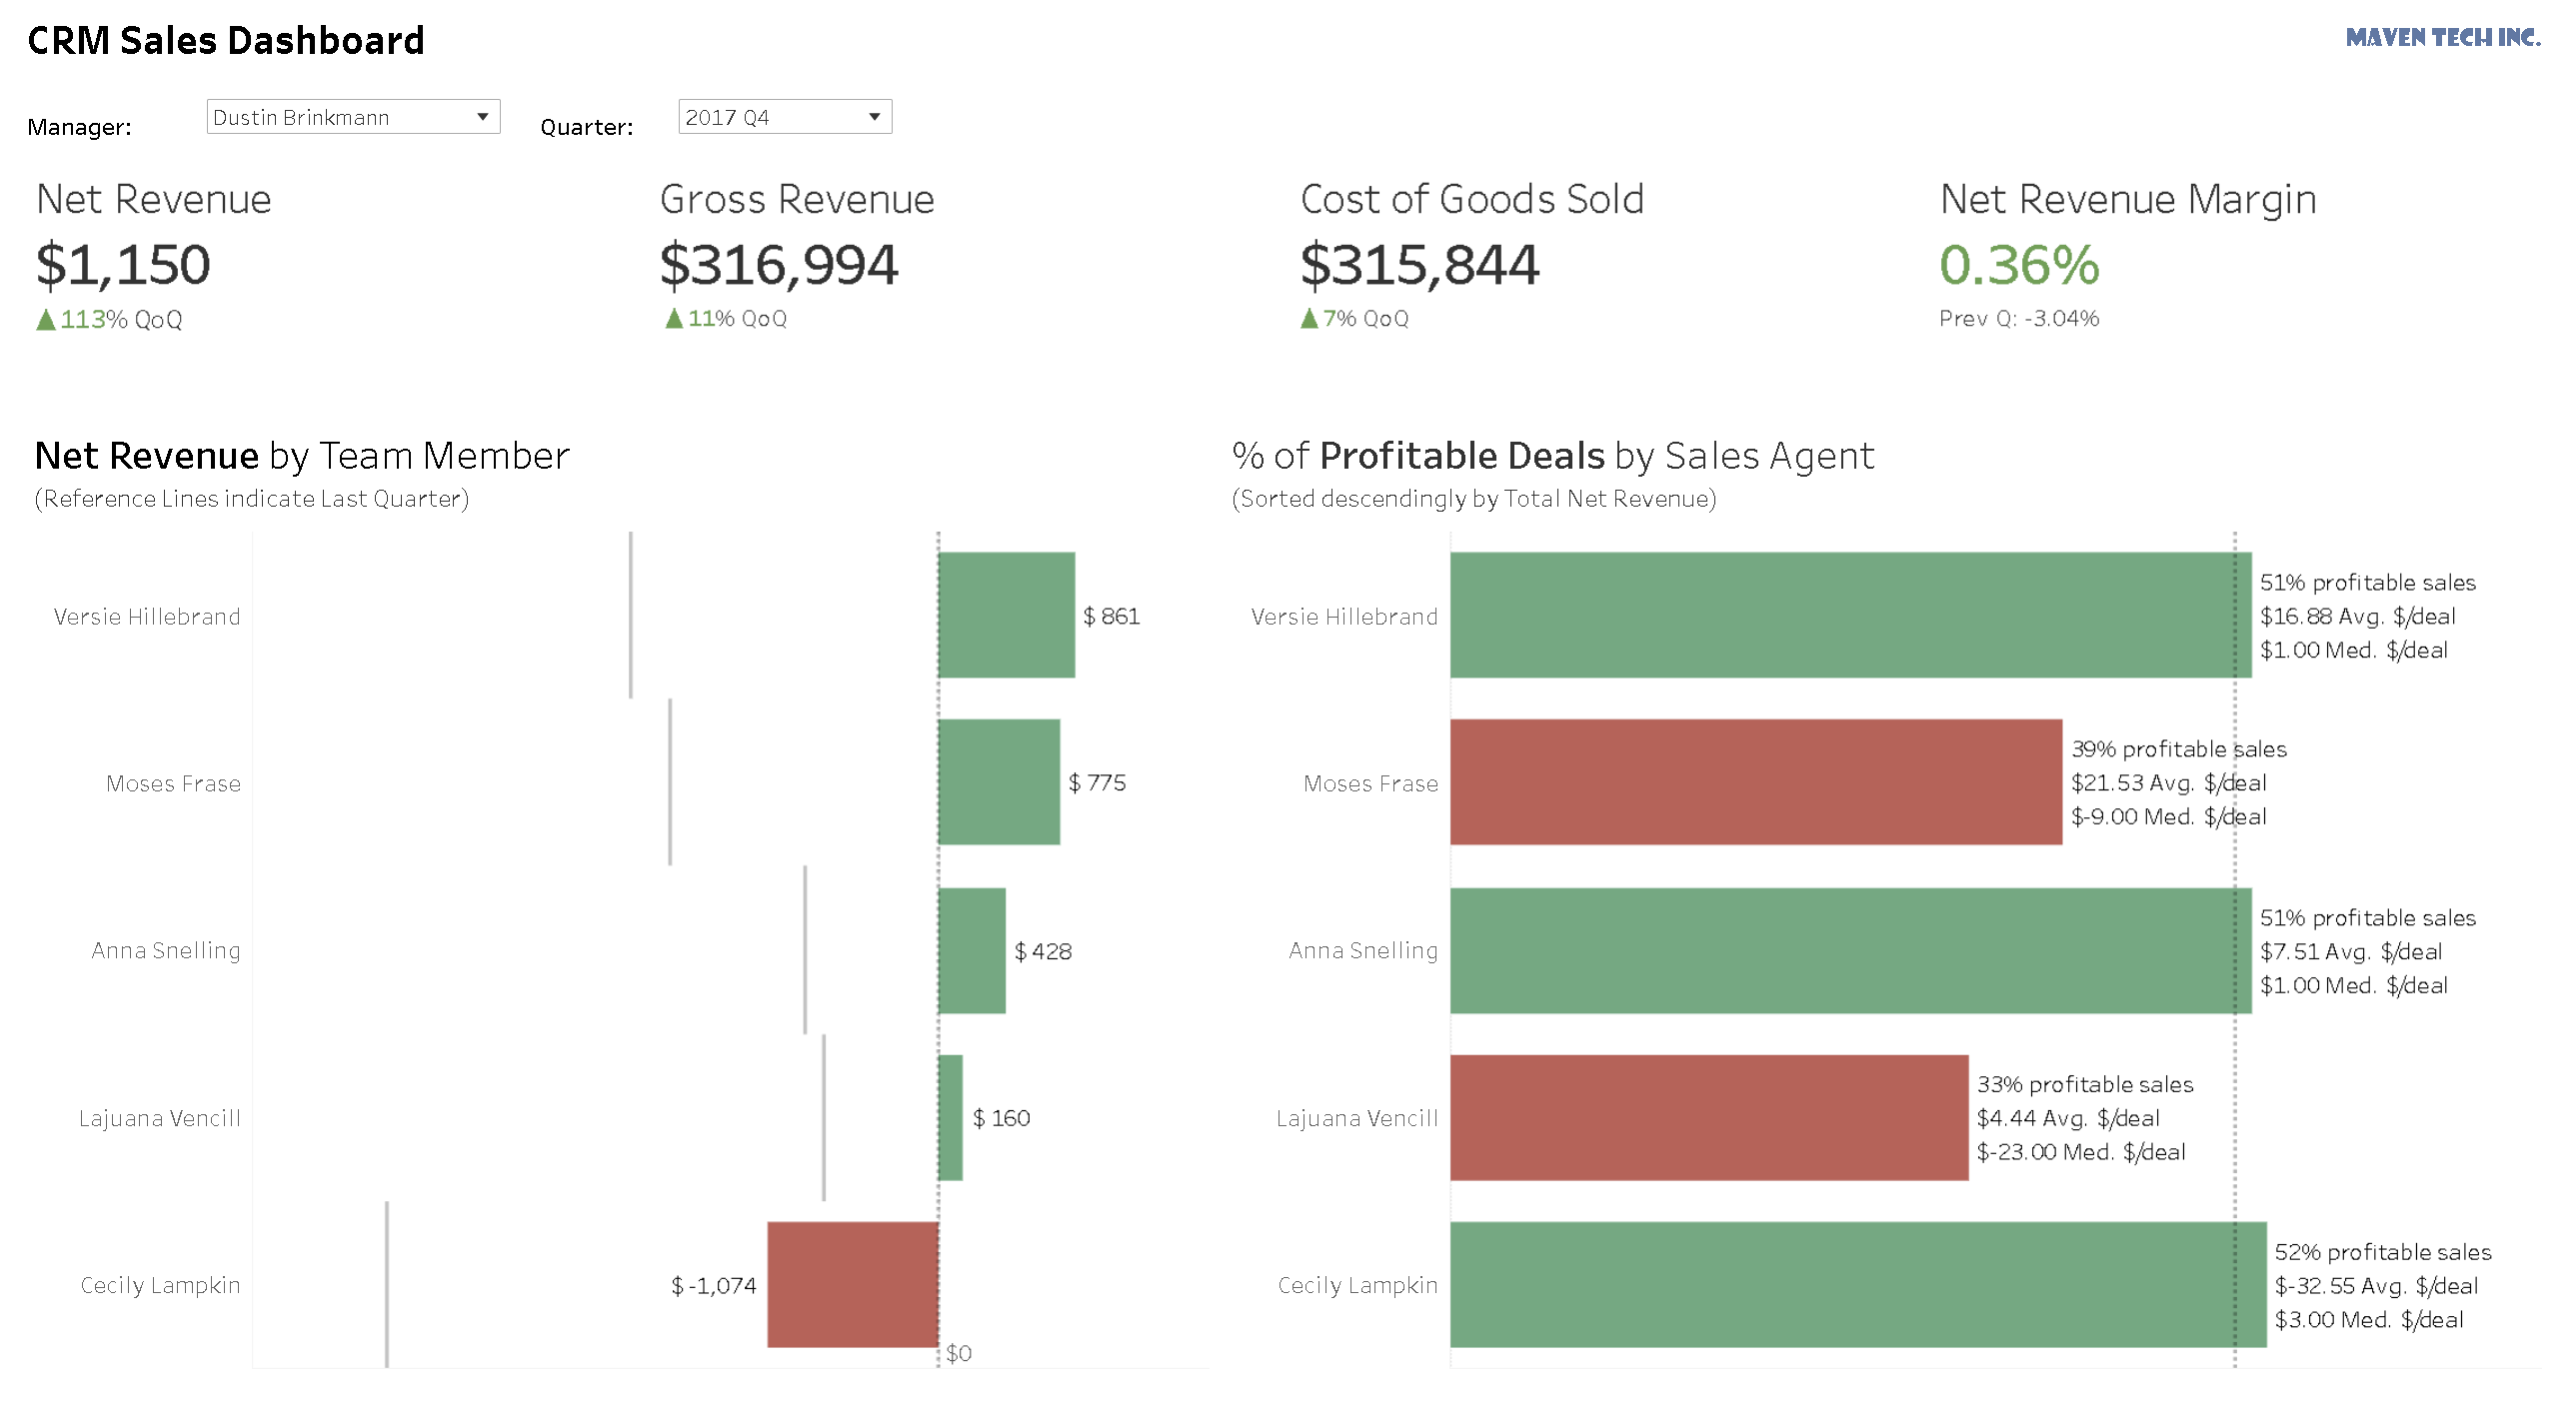

The page's visual inventory and layout, read from the dashboard file:
{"tool":"tableau","page":{"name":"Revenue Dashboard","canvas":[1366,768],"ordinal":1},"visuals":[{"type":"text","box":[8,8,1051,57]},{"type":"text","box":[1059,8,299,57]},{"type":"text","box":[8,65,95,37]},{"type":"filter","title":"KPI Net Revenue","param":"[federated.1rdbeku1b0a2o613jef0j0olita1].[none:manager:nk]","box":[103,65,167,37]},{"type":"text","box":[270,65,85,37]},{"type":"parameter","param":"[Parameters].[Parameter 2]","box":[355,65,124,37]},{"type":"blank","box":[479,65,879,37]},{"type":"worksheet","title":"KPI Net Revenue","mark":"Automatic","box":[8,102,333,132]},{"type":"worksheet","title":"KPI Gross Revenue","mark":"Automatic","box":[341,102,342,132]},{"type":"worksheet","title":"KPI Cost of Goods Sold","mark":"Automatic","box":[683,102,341,132]},{"type":"worksheet","title":"KPI Profit Margin","mark":"Automatic","box":[1024,102,334,132]},{"type":"worksheet","title":"Net Revenue by Sales Agent","mark":"Bar","rows":["sales_agent"],"cols":["Calculation_784470816501125144"],"box":[8,233.5,639,526.4]},{"type":"worksheet","title":"Reveue Stats per Deal by Sales Agent","mark":"Automatic","rows":["sales_agent"],"cols":["Calculation_2355664136857657361"],"box":[647,233.5,711,526.4]}]}

Visuals, with their boxes on the page's 1366x768 design canvas (x1, y1, x2, y2). These are canvas units, not pixel positions in the 2576x1401 screenshot, which may show the page scaled, cropped or inside an application window:
text: 8 8 1059 65
text: 1059 8 1358 65
text: 8 65 103 102
"KPI Net Revenue" filter: 103 65 270 102
text: 270 65 355 102
parameter: 355 65 479 102
blank: 479 65 1358 102
"KPI Net Revenue" worksheet: 8 102 341 234
"KPI Gross Revenue" worksheet: 341 102 683 234
"KPI Cost of Goods Sold" worksheet: 683 102 1024 234
"KPI Profit Margin" worksheet: 1024 102 1358 234
"Net Revenue by Sales Agent" worksheet (Bar marks): 8 234 647 760
"Reveue Stats per Deal by Sales Agent" worksheet: 647 234 1358 760
